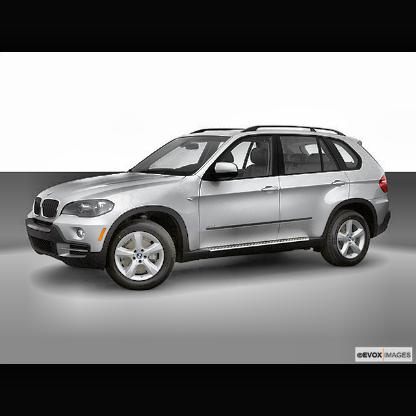BMW X5 SUV 2007: (28, 125, 392, 291)
